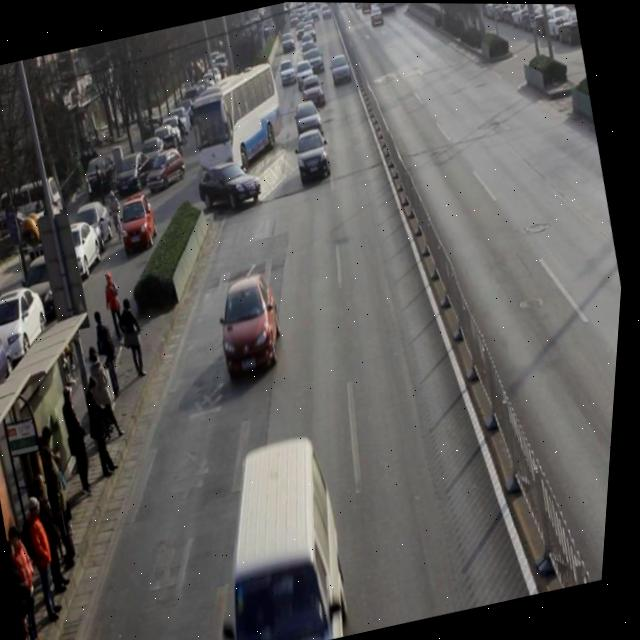car: (212, 272, 298, 380), (195, 154, 268, 215), (292, 126, 339, 184), (292, 96, 330, 142), (298, 72, 330, 111)
truck: (199, 435, 371, 640)
van: (181, 60, 296, 182)
